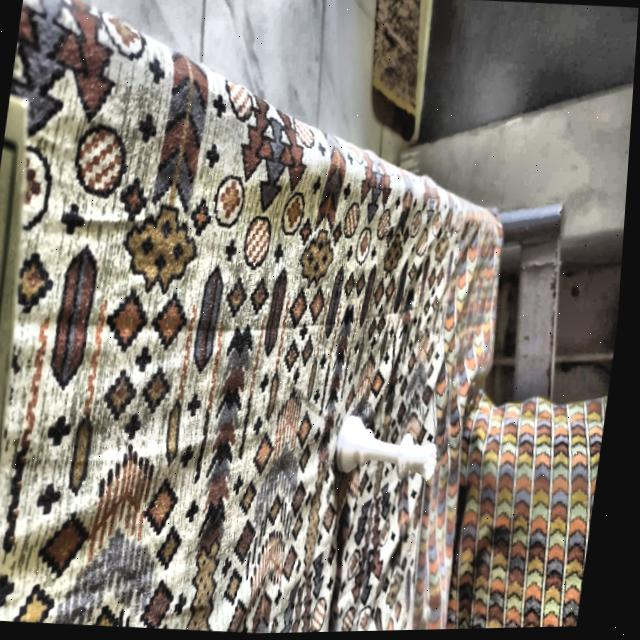WhiteQueen: (327, 407, 443, 484)
